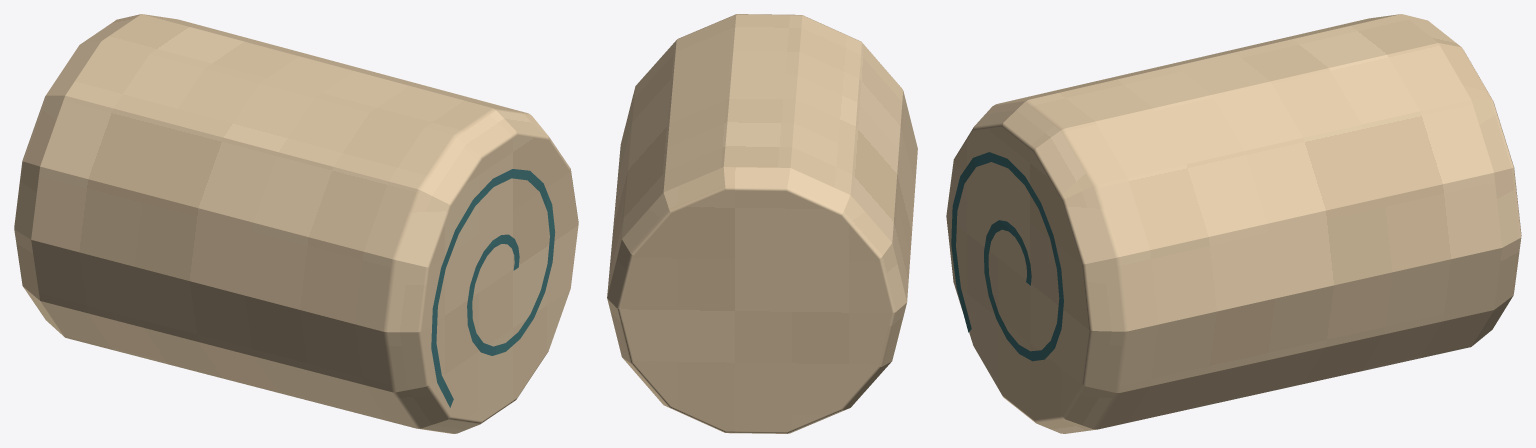
Rendered from BasketIvoryRoll.glb.
3 views of the same model, side by side, from view 1: azimuth 30°, elevation 25°; view 2: azimuth 150°, elevation 25°; view 3: azimuth 270°, elevation 25° (orthographic). The views are drawn at different scales.
Parts seen in each view (by area): view 1: BasketIvoryRoll.Rolled-linen, BasketIvoryRoll.Wound-edge; view 2: BasketIvoryRoll.Rolled-linen; view 3: BasketIvoryRoll.Rolled-linen, BasketIvoryRoll.Wound-edge.
Boxes of the visible parts, x1,y1,x2,y2 form: BasketIvoryRoll.Rolled-linen: (14, 14, 578, 433); BasketIvoryRoll.Wound-edge: (431, 169, 555, 407); BasketIvoryRoll.Rolled-linen: (607, 14, 917, 433); BasketIvoryRoll.Rolled-linen: (946, 14, 1521, 433); BasketIvoryRoll.Wound-edge: (951, 152, 1063, 361).
Bounding box in the file's own units: 0.2792 × 0.1868 × 0.3156.
Materials: 2 (2 with a texture image).
